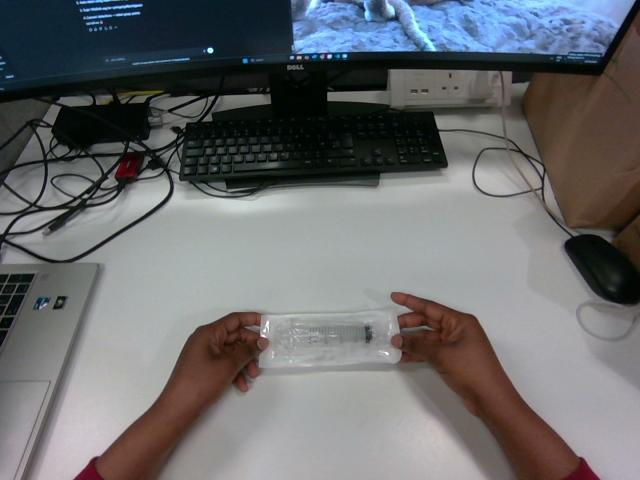syringe: (259, 309, 400, 367)
